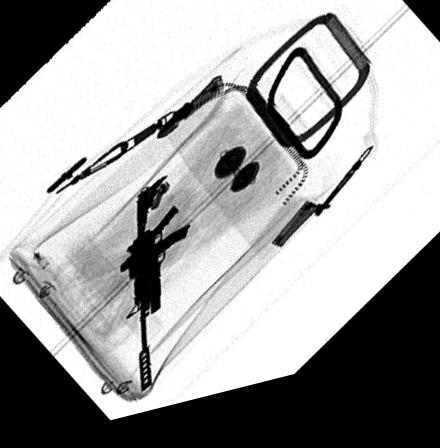Gun: (118, 179, 191, 400)
